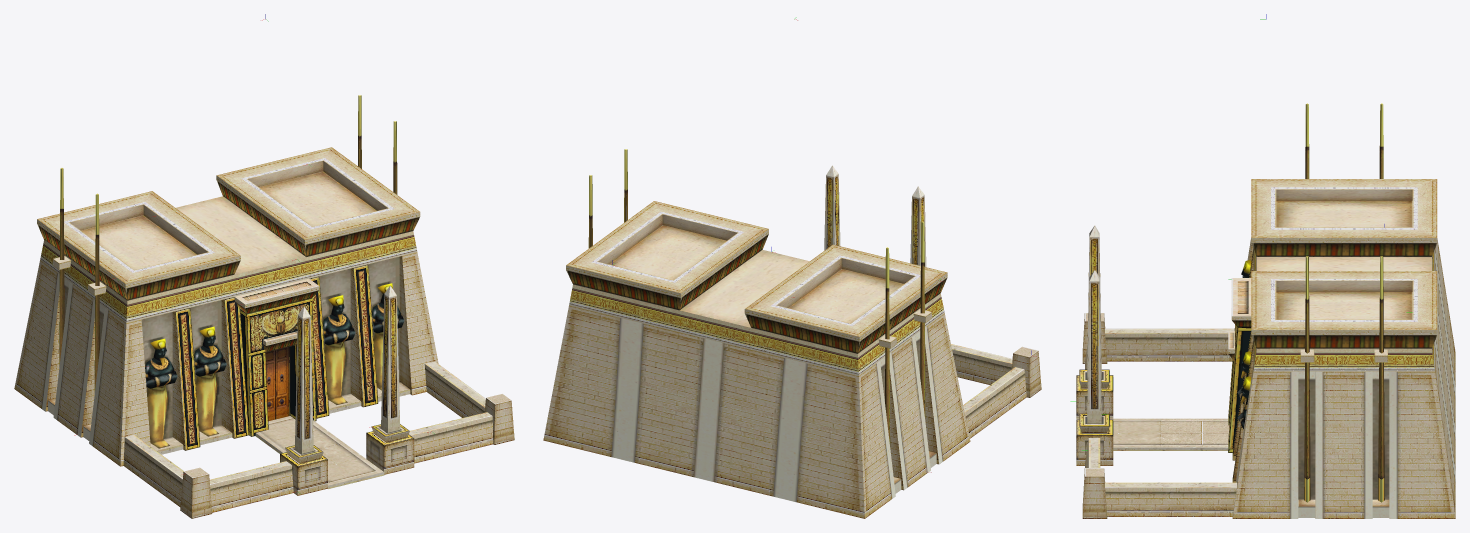
The model's file is egyptian-wonder-set.glb.
3 renders of one model, left to right at view 1: azimuth 30°, elevation 25°; view 2: azimuth 150°, elevation 25°; view 3: azimuth 270°, elevation 25°, orthographic. The views are drawn at different scales.
Parts seen in each view (by area): view 1: building e set wonderModel; view 2: building e set wonderModel; view 3: building e set wonderModel.
Boxes of the visible parts, x1,y1,x2,y2 form: building e set wonderModel: (14,95,514,518); building e set wonderModel: (543,149,1041,518); building e set wonderModel: (1076,103,1455,518).
Size of the model in its own units: 16.09 by 18.9 by 15.62.
Materials: 5 (4 with a texture image).
